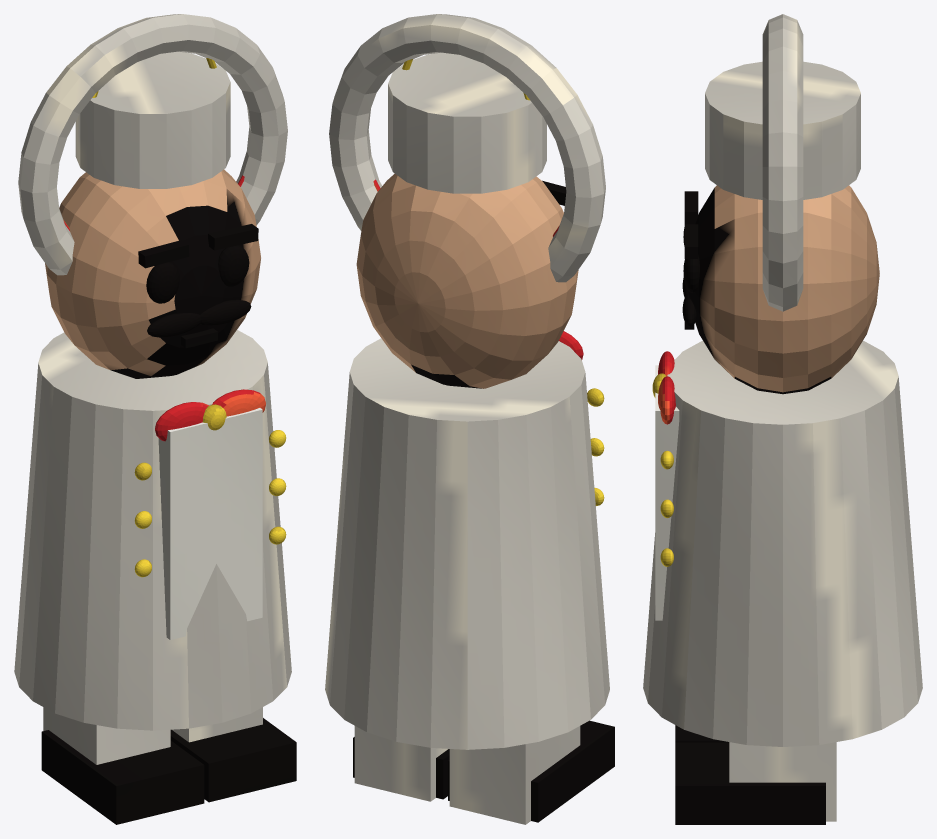
Rendered from cuerpo_sombrero.obj.
The picture shows the model from 3 angles, left to right: view 1: azimuth 30°, elevation 25°; view 2: azimuth 150°, elevation 25°; view 3: azimuth 270°, elevation 25°; orthographic projection. The views are drawn at different scales.
Visible parts, largest first — view 1: cuerpo_sombrero; view 2: cuerpo_sombrero; view 3: cuerpo_sombrero.
Boxes of the visible parts, x1,y1,x2,y2 form: cuerpo_sombrero: (14, 14, 296, 824); cuerpo_sombrero: (325, 14, 614, 824); cuerpo_sombrero: (643, 14, 922, 824).
Size of the model in its own units: 1.15 by 3.09 by 1.04.
7 materials, 7 textured.
